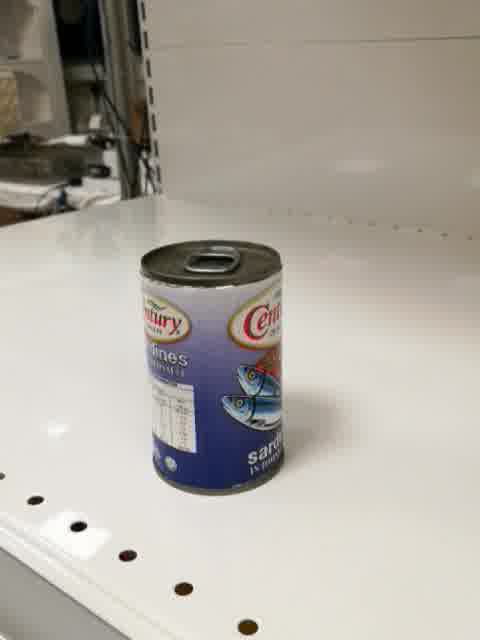sardine: (140, 239, 288, 500)
